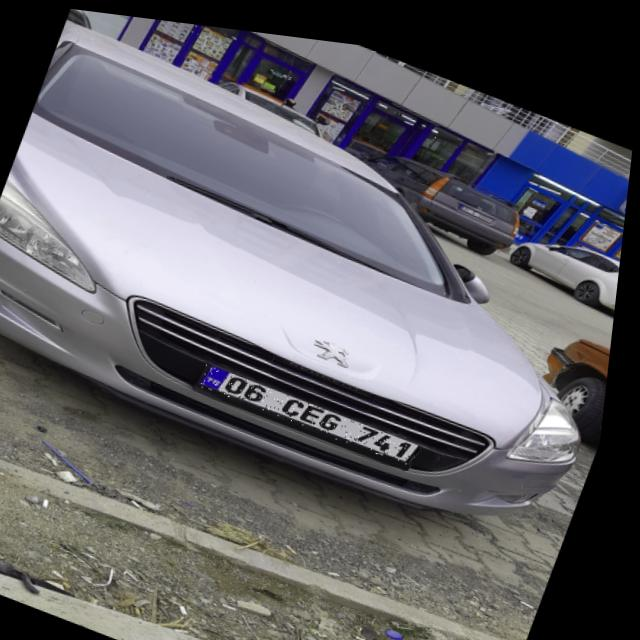license_plate: (200, 356, 432, 457)
